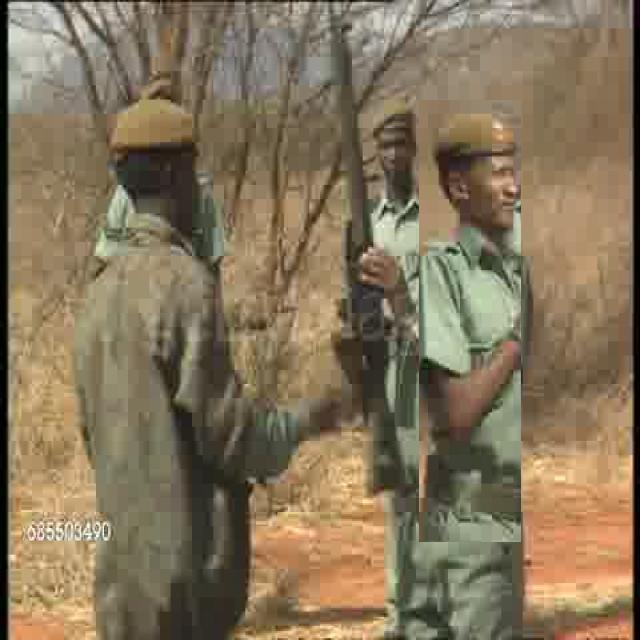poacher: (66, 101, 238, 631), (419, 100, 521, 542), (370, 105, 422, 215)
weapon: (318, 2, 411, 494)
